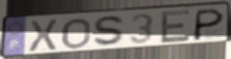3: (129, 12, 157, 46)
E: (160, 8, 192, 45)
O: (60, 17, 92, 50)
P: (191, 7, 226, 42)
S: (92, 14, 128, 48)
X: (28, 18, 60, 55)
